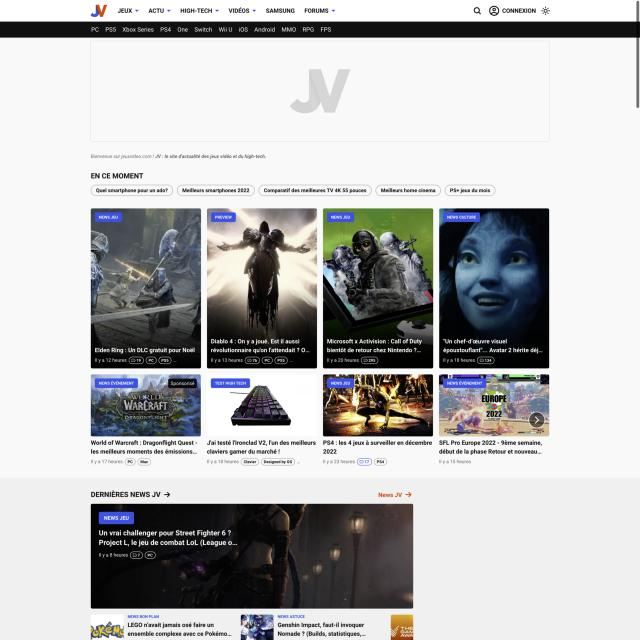logo: (89, 2, 109, 18)
navigation: (88, 24, 335, 35)
